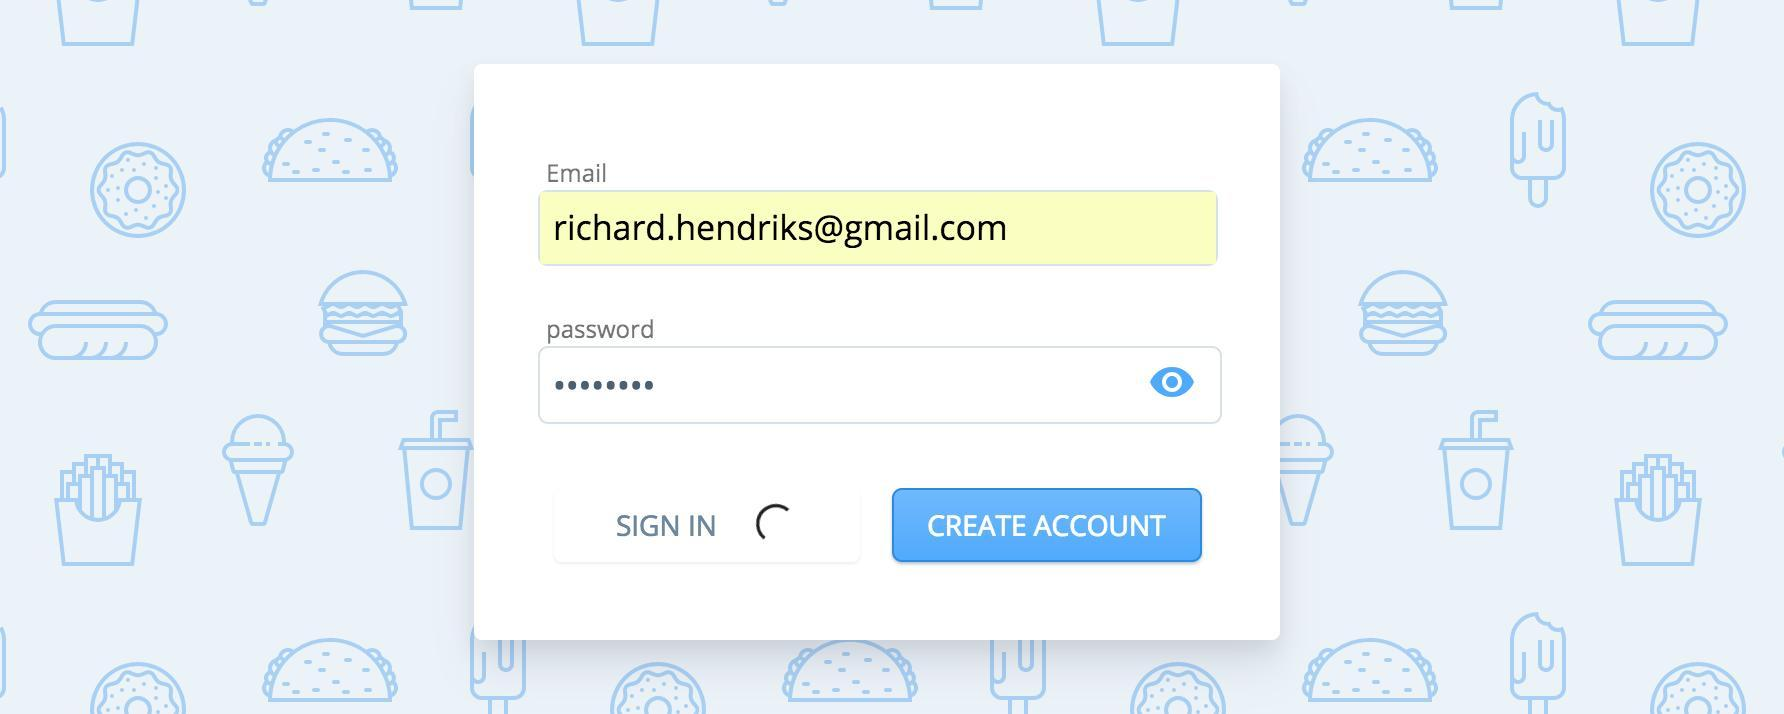button: (557, 489, 870, 567), (889, 489, 1205, 566)
icon: (1149, 365, 1197, 402)
input: (540, 191, 1217, 266), (538, 351, 1221, 423)
label: (542, 316, 656, 342), (545, 160, 611, 186)
